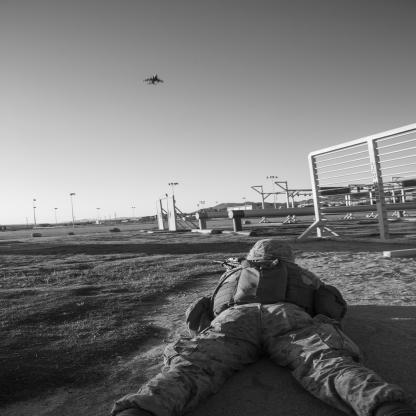AV8B: (143, 75, 165, 87)
